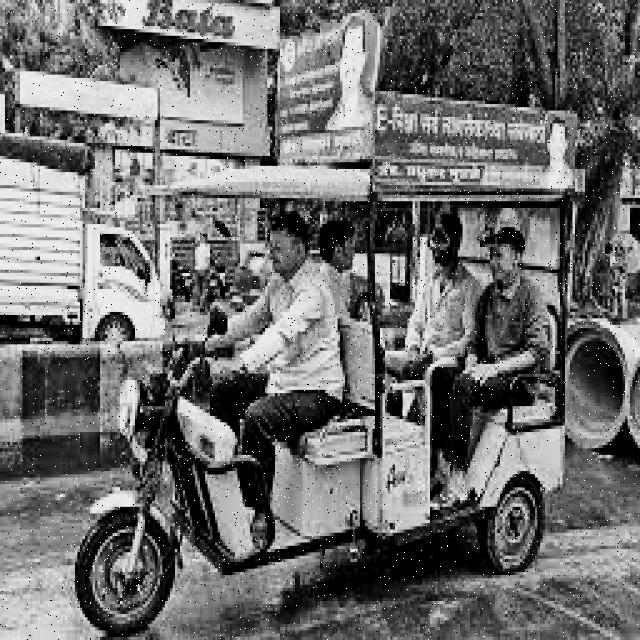Toto: (88, 171, 582, 629)
